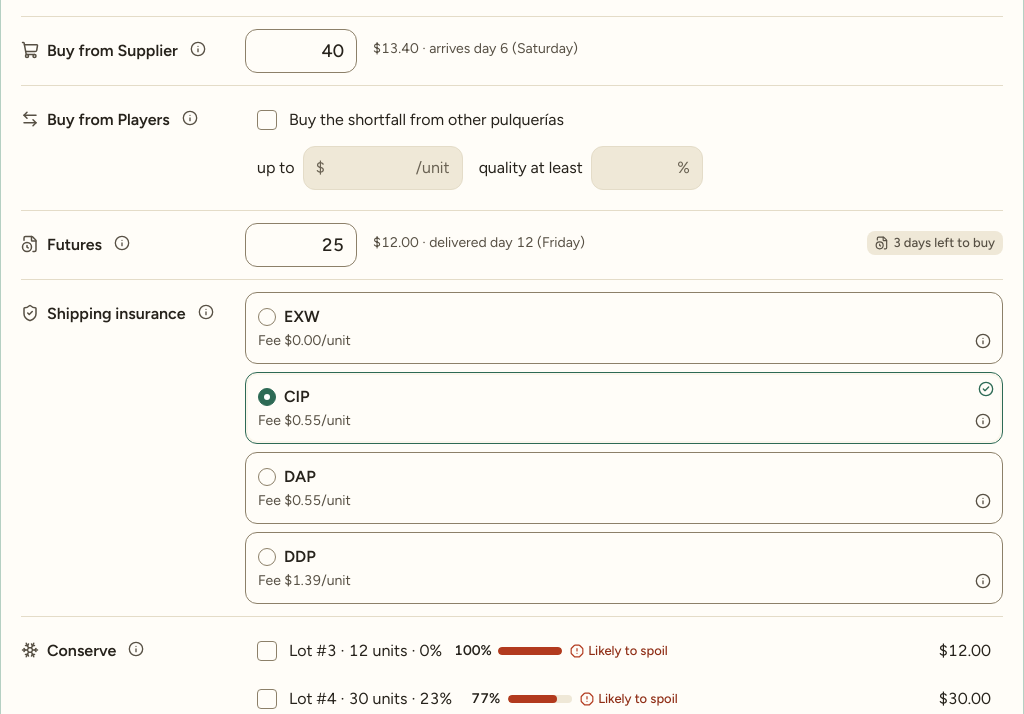
Test case: quantity validity (acceptance criteria 5 and 16) › clears the message once the quantity is valid again
Replace the text in the field named "Buy from Supplier" next to "$13.40 · arrives day 6 (Saturday)" with "10000": (301, 51) x1=258 y1=37 x2=344 y2=65
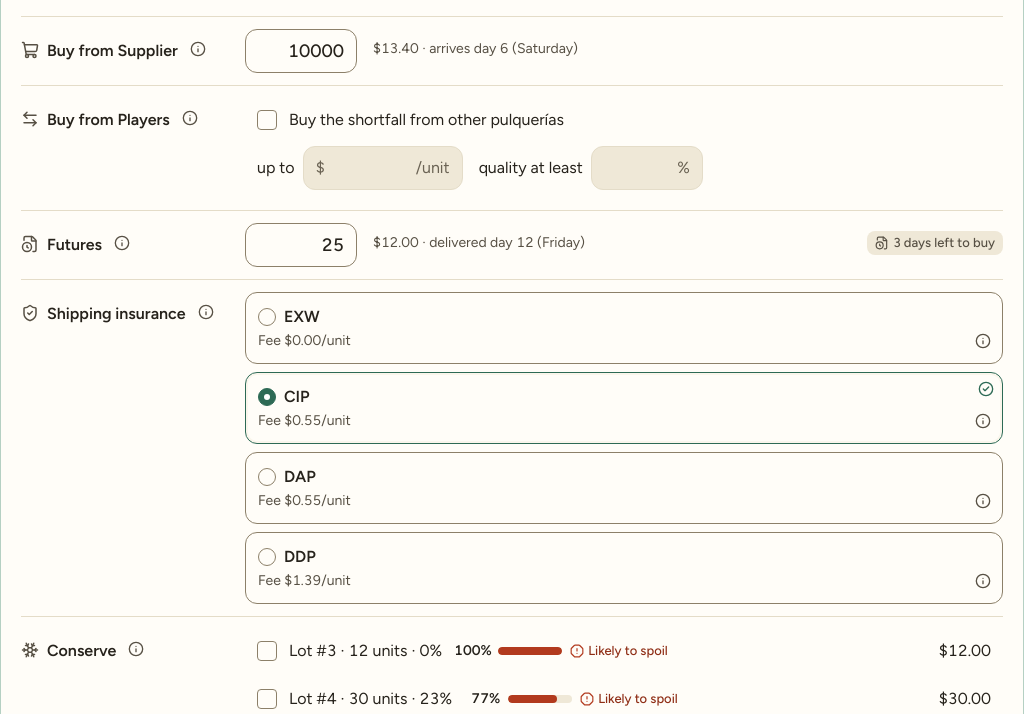
Leave the field named "Buy from Supplier" next to "$13.40 · arrives day 6 (Saturday)", box x1=258 y1=37 x2=344 y2=65
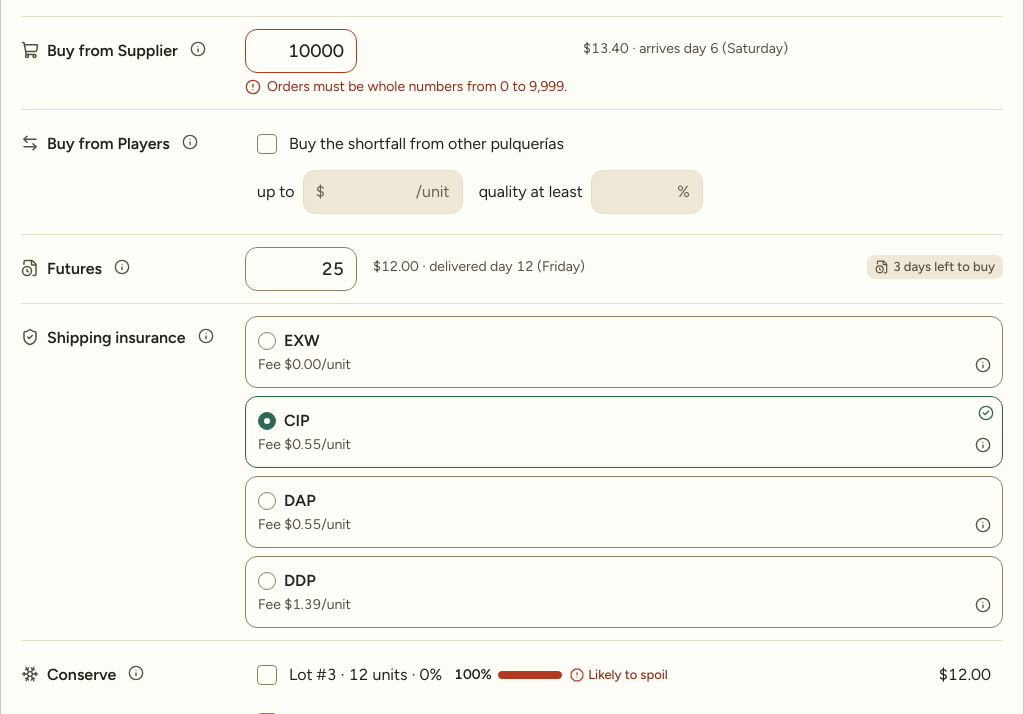
Check: the text "Orders must be whole numbers from 0 to 9,999." is shown, box x1=245 y1=77 x2=567 y2=97
Replace the text in the field named "Buy from Supplier" in the row of "$13.40 · arrives day 6 (Saturday)" with "50": (301, 51) x1=258 y1=37 x2=344 y2=65
(page scrolled)
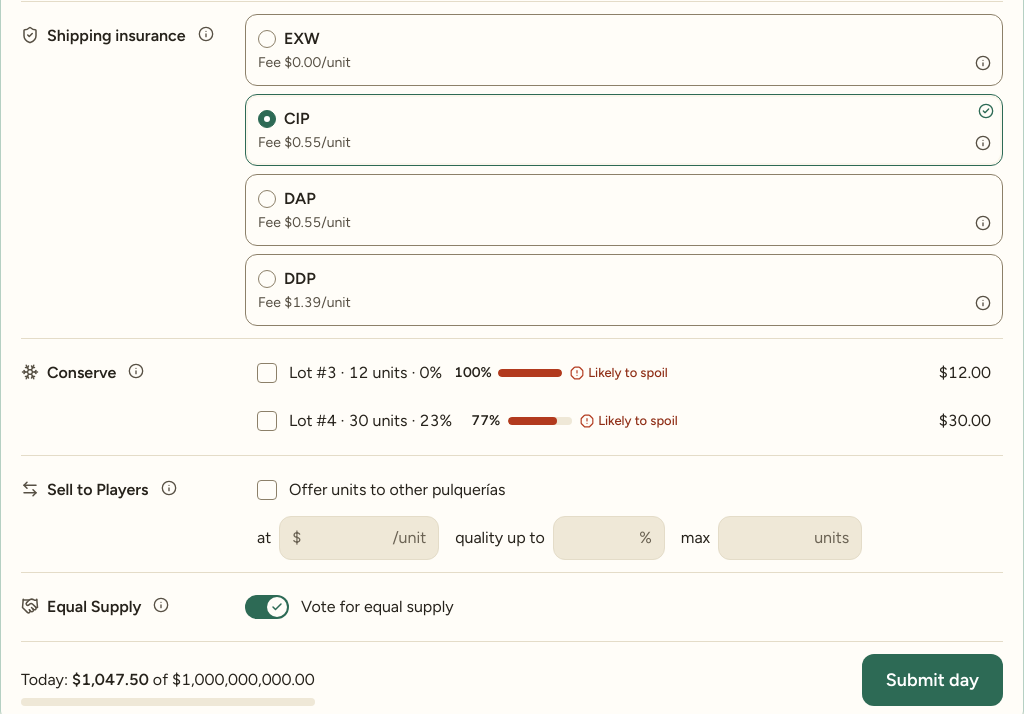
Check: the button "Submit day" is enabled, box x1=862 y1=654 x2=1003 y2=706
Check: the text "Orders must be whole numbers from 0 to 9,999." is gone
